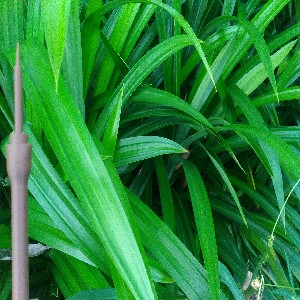solder: (5, 40, 33, 300)
